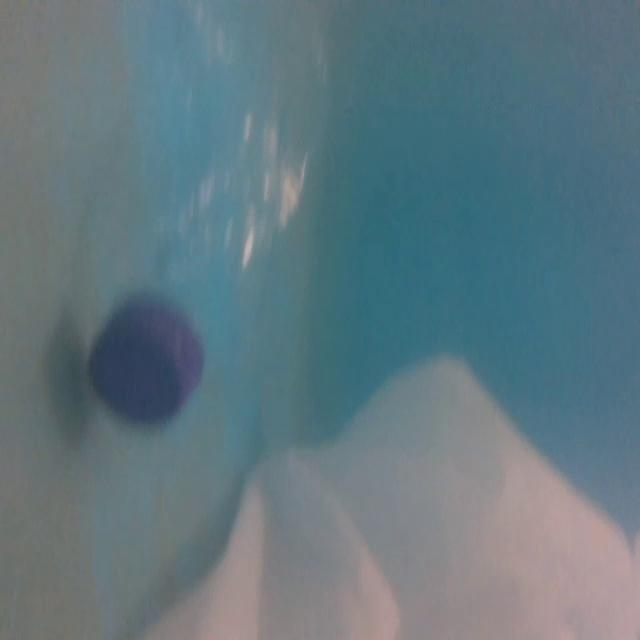plastic bags: (137, 350, 639, 640)
plastic bottle: (70, 7, 327, 430)
